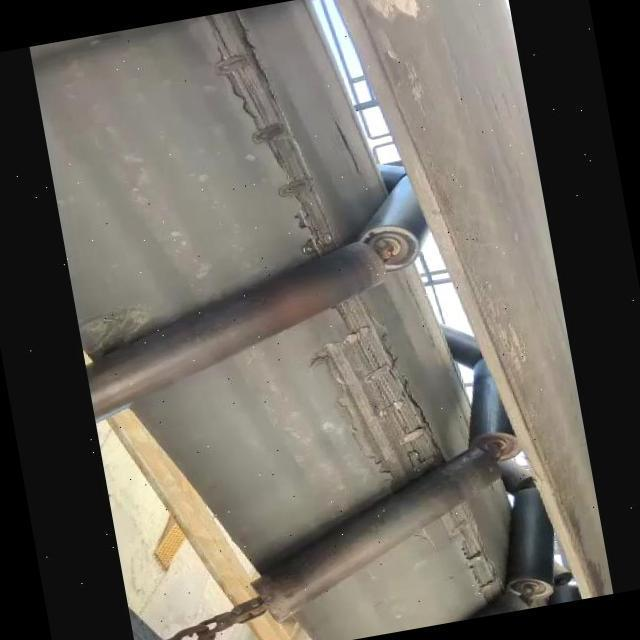Tear: (200, 7, 338, 258), (308, 292, 448, 482), (421, 491, 508, 604)
